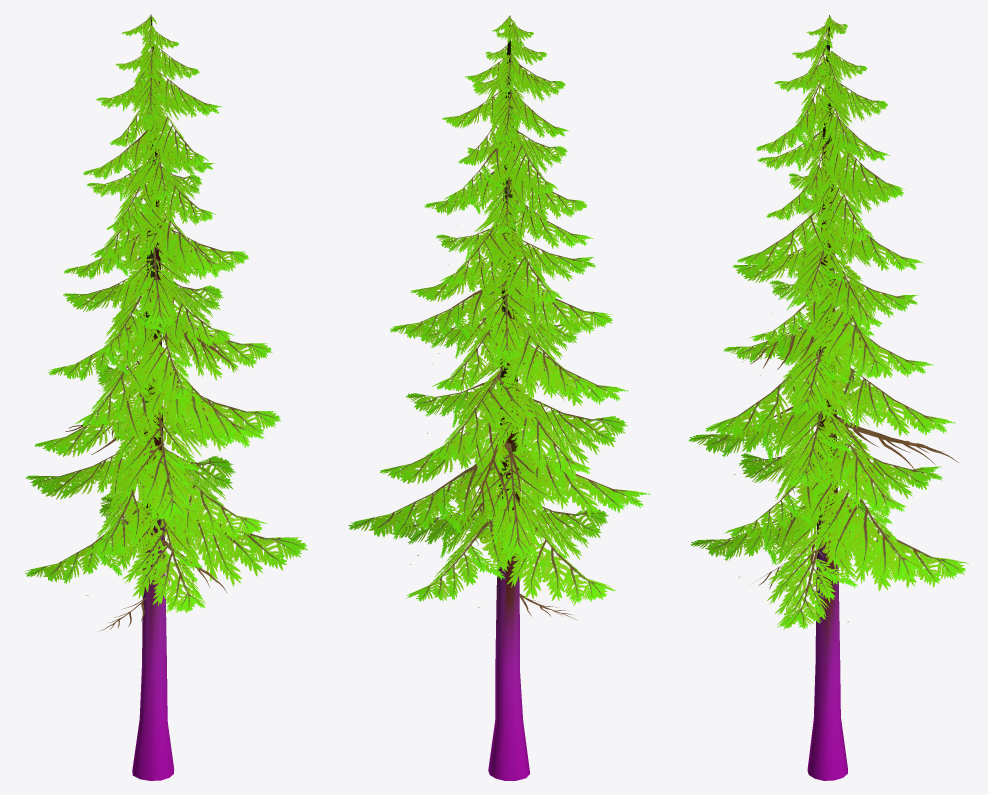
The model's file is Spruce_Tree_V0.fbx.
The picture shows the model from 3 angles, left to right: view 1: azimuth 30°, elevation 25°; view 2: azimuth 150°, elevation 25°; view 3: azimuth 270°, elevation 25°; orthographic projection.
Visible parts, largest first — view 1: Spruce_Tree_V0_LOD0; view 2: Spruce_Tree_V0_LOD0; view 3: Spruce_Tree_V0_LOD0.
Part boxes in pixels (bbox=[...]): Spruce_Tree_V0_LOD0: bbox=[24, 14, 307, 780]; Spruce_Tree_V0_LOD0: bbox=[348, 15, 650, 780]; Spruce_Tree_V0_LOD0: bbox=[688, 15, 968, 780].
Size of what is drawn, in the model's own units: 519 by 1437 by 503.
